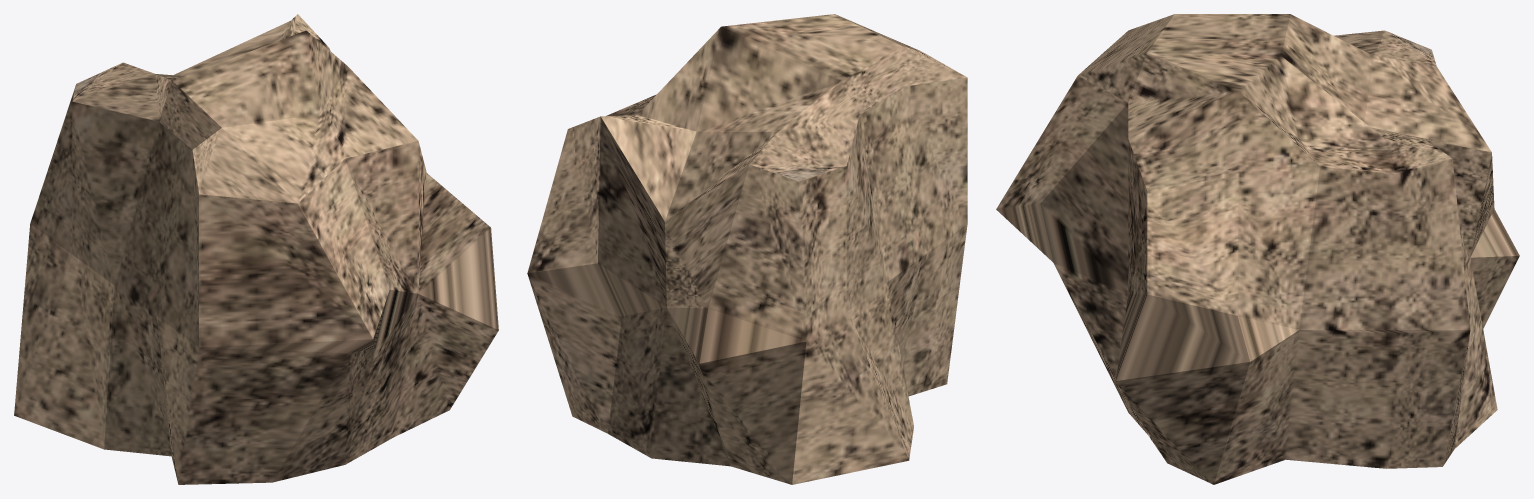
File: sandstone.glb
The picture shows the model from 3 angles, left to right: view 1: azimuth 30°, elevation 25°; view 2: azimuth 150°, elevation 25°; view 3: azimuth 270°, elevation 25°; orthographic projection. The views are drawn at different scales.
Parts seen in each view (by area): view 1: Cube; view 2: Cube; view 3: Cube.
Part boxes in pixels (bbox=[...]): Cube: bbox=[14, 14, 498, 484]; Cube: bbox=[527, 14, 967, 484]; Cube: bbox=[996, 14, 1519, 484].
Bounding box in the file's own units: 2.65 × 2.45 × 3.06.
1 material, 1 textured.
